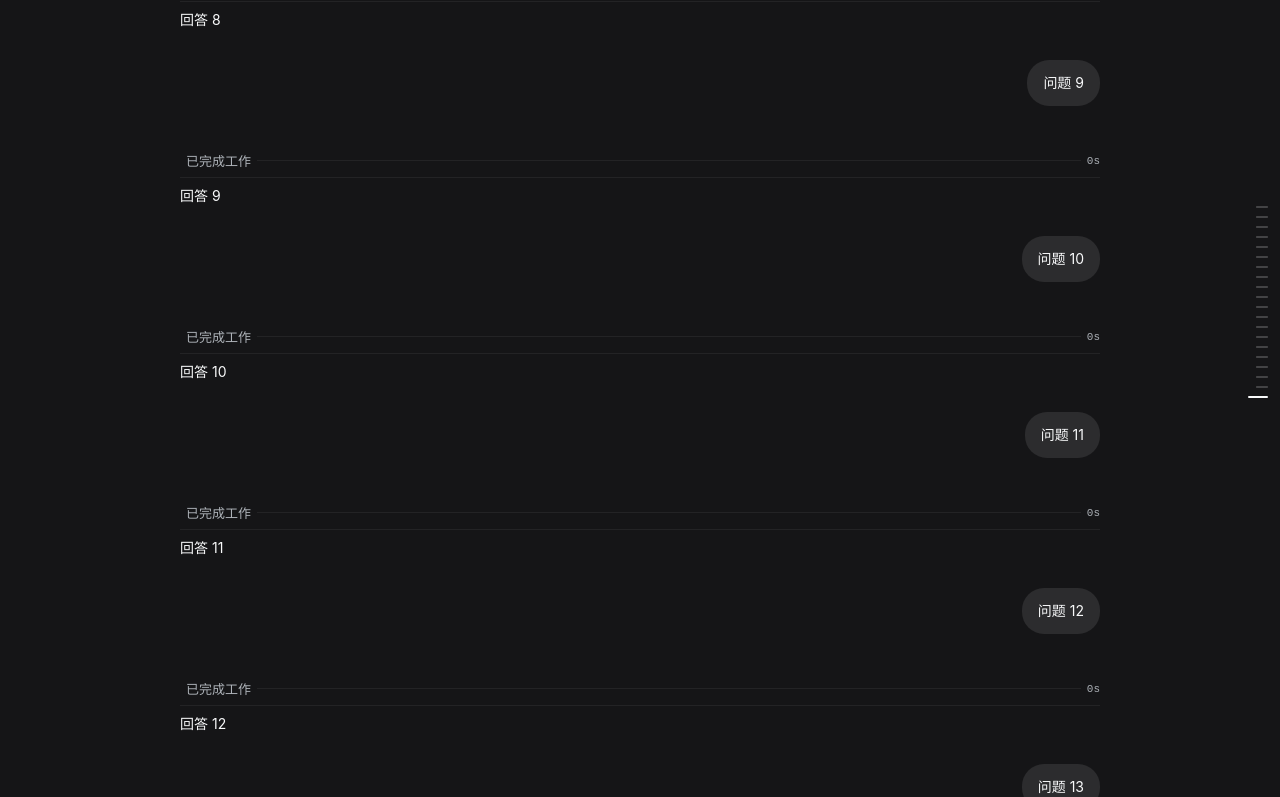
Test: 转录里的预览滚动条 › 默认右侧：外壳标出 side，刻度覆盖**整段历史**（20 轮 → 20 条）
The width and height of the screenshot is (1280, 797).
(page scrolled)
expect the navigation bar is shown: met, box [1240,202,1268,402]
Hover over the button named "跳到第 20 轮": x=1254, y=397 [1240,392,1268,402]
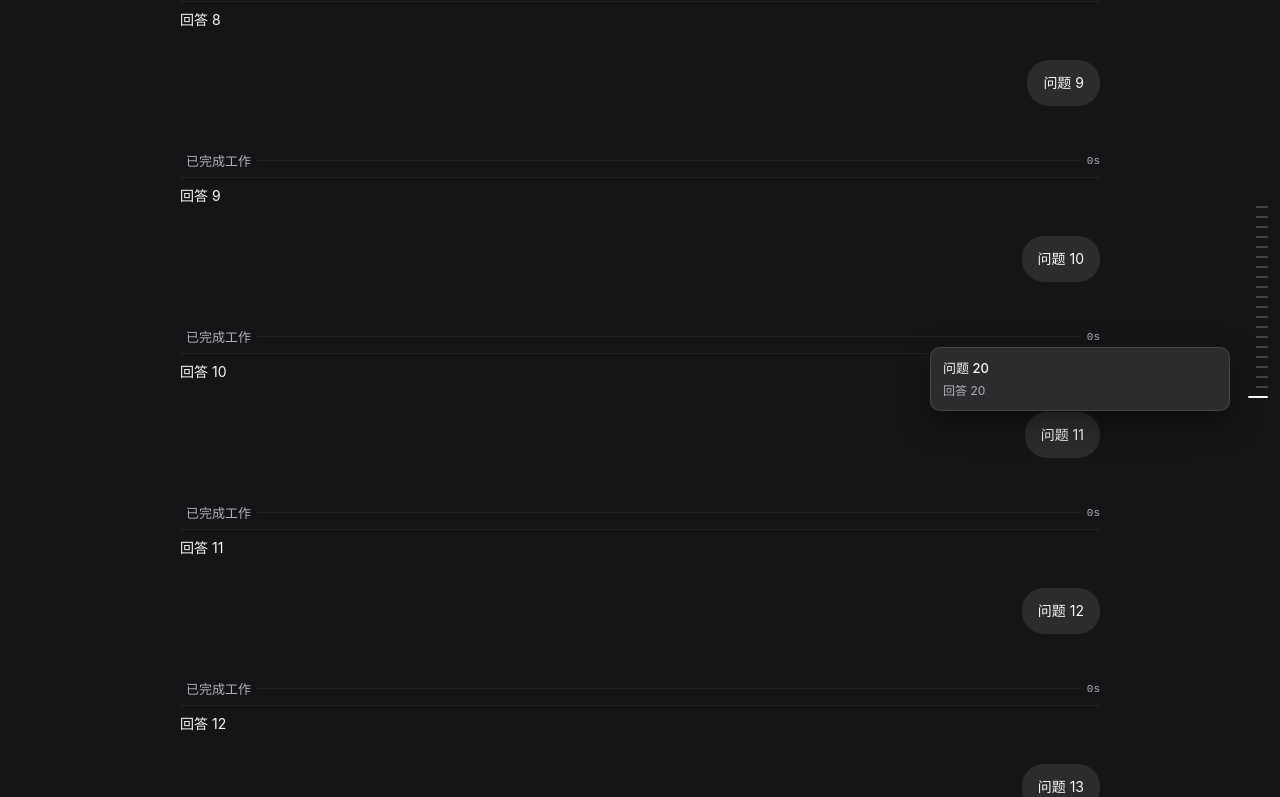
expect the text "问题 20" is shown: met, box [943,360,989,376]
